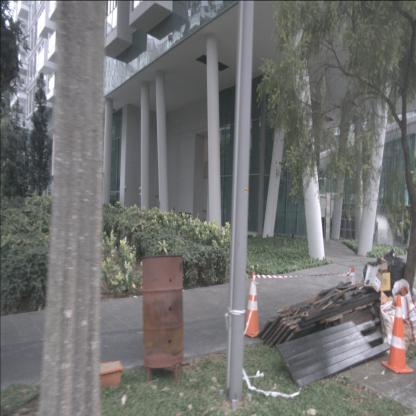cone: (381, 292, 413, 375), (245, 274, 262, 336)
